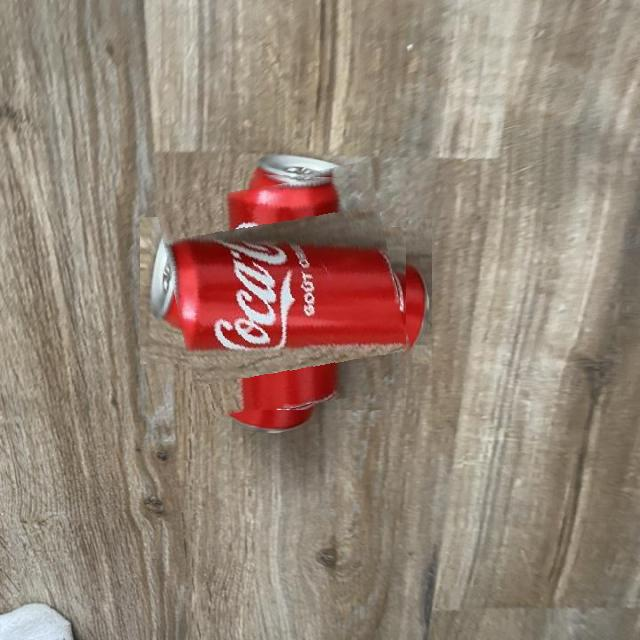recyclable: (166, 170, 406, 410)
